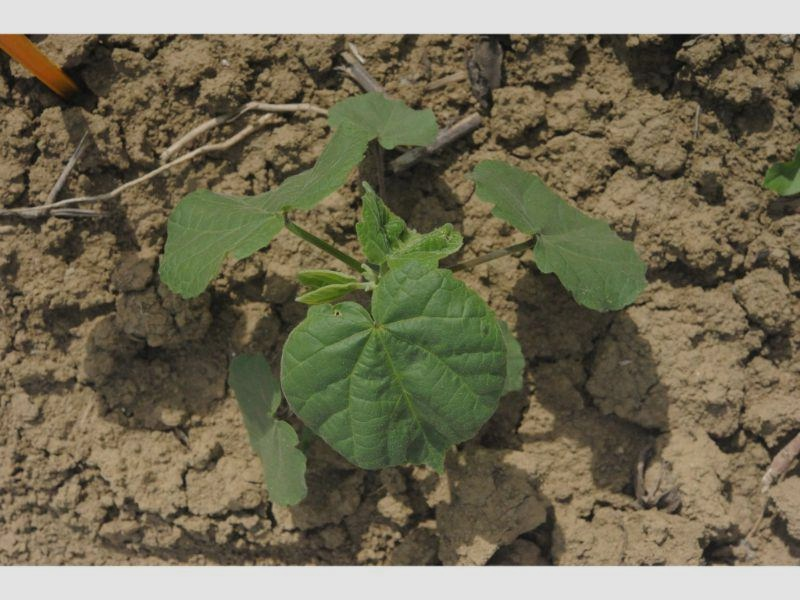velvet: (157, 89, 648, 507)
